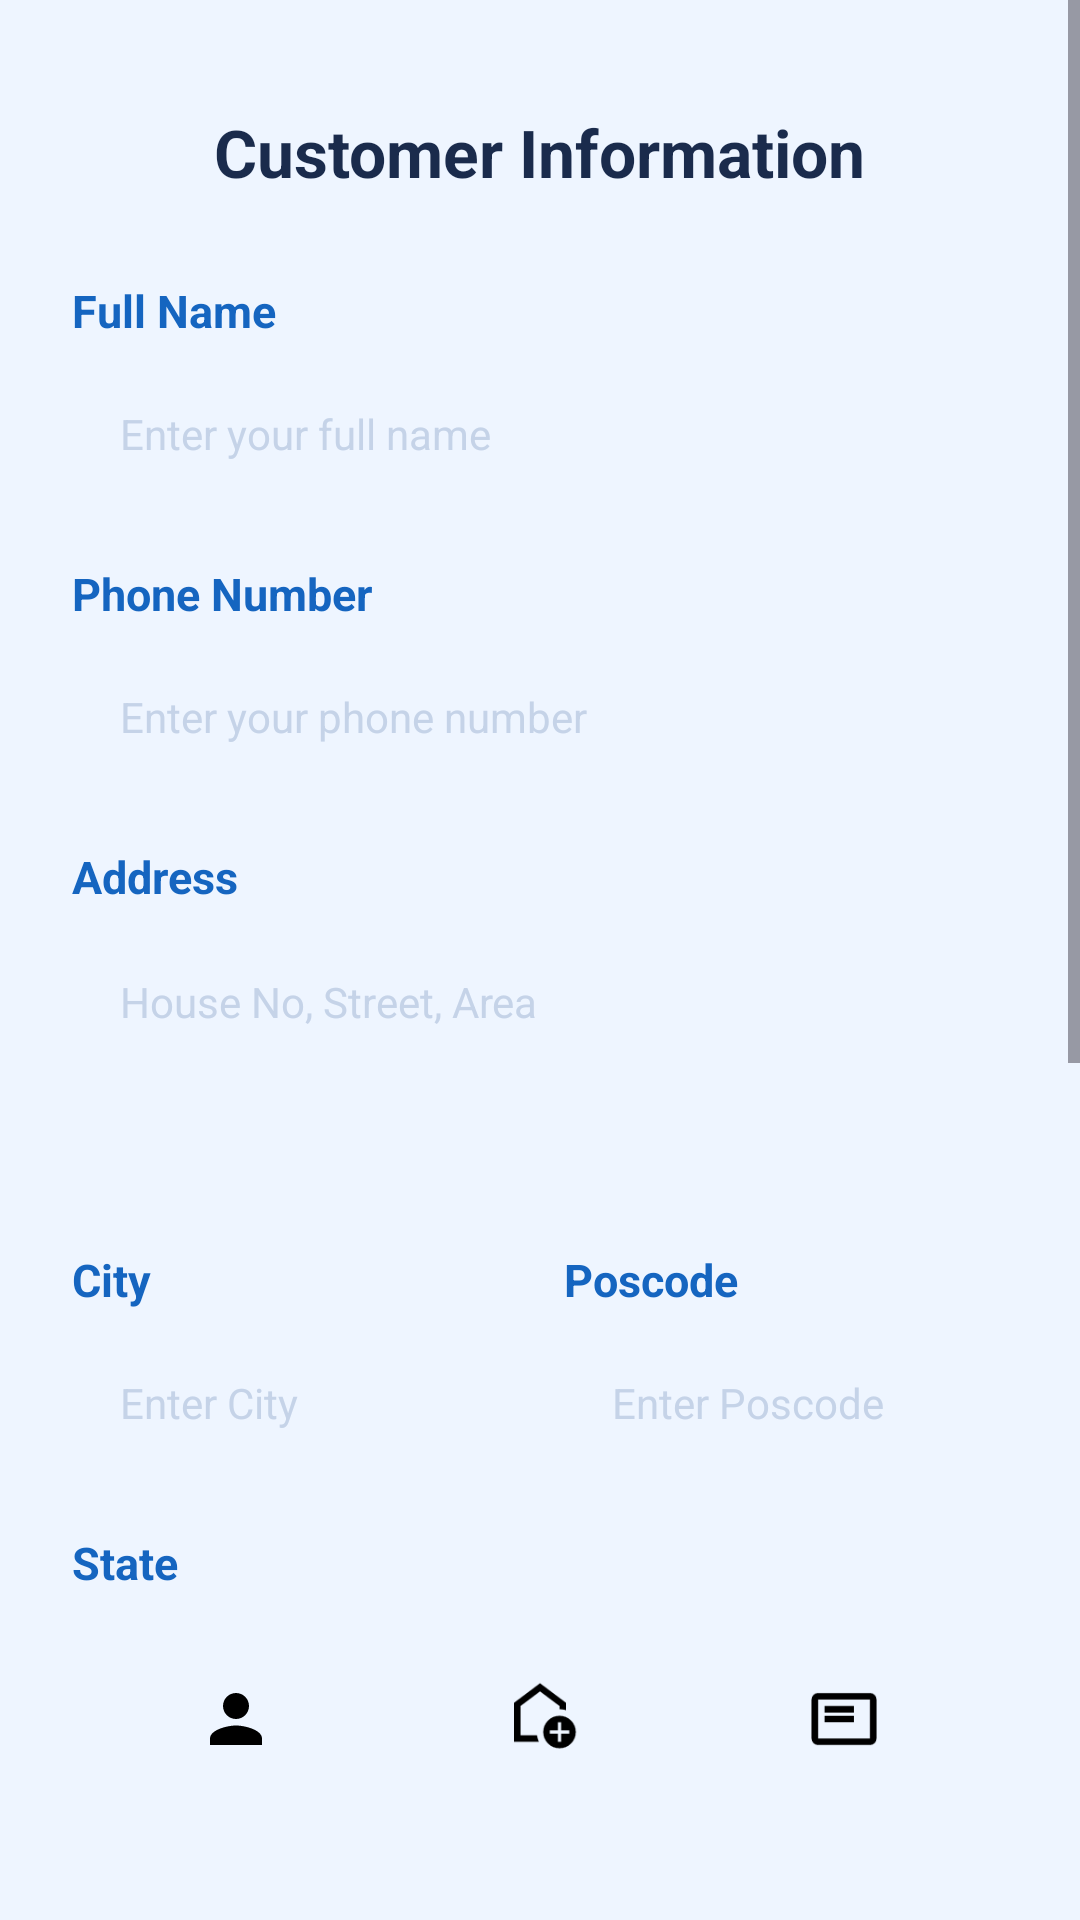

Icons on this 1080 x 1920 Android screen, each with the point to tap as [x,y]:
home: [545,1716]
person: [236,1719]
